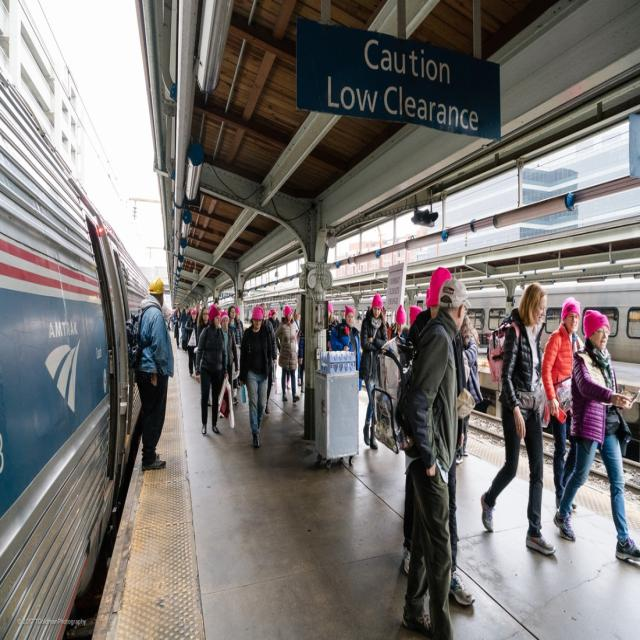body: (398, 273, 473, 639), (401, 265, 476, 606), (552, 308, 640, 564), (480, 282, 558, 560), (541, 294, 586, 517), (134, 275, 175, 472), (193, 303, 236, 437), (238, 306, 274, 452), (453, 307, 484, 469), (358, 292, 388, 452), (330, 303, 363, 392), (273, 304, 301, 405), (258, 301, 278, 416), (280, 305, 306, 393), (216, 312, 238, 397), (228, 306, 243, 406), (164, 304, 207, 331), (183, 307, 198, 377), (267, 307, 280, 380), (404, 301, 426, 344), (323, 302, 341, 354), (386, 303, 410, 341), (177, 304, 191, 354), (196, 304, 210, 346), (234, 306, 245, 351), (378, 303, 391, 331), (174, 309, 182, 349), (267, 306, 272, 318), (357, 312, 361, 320)
